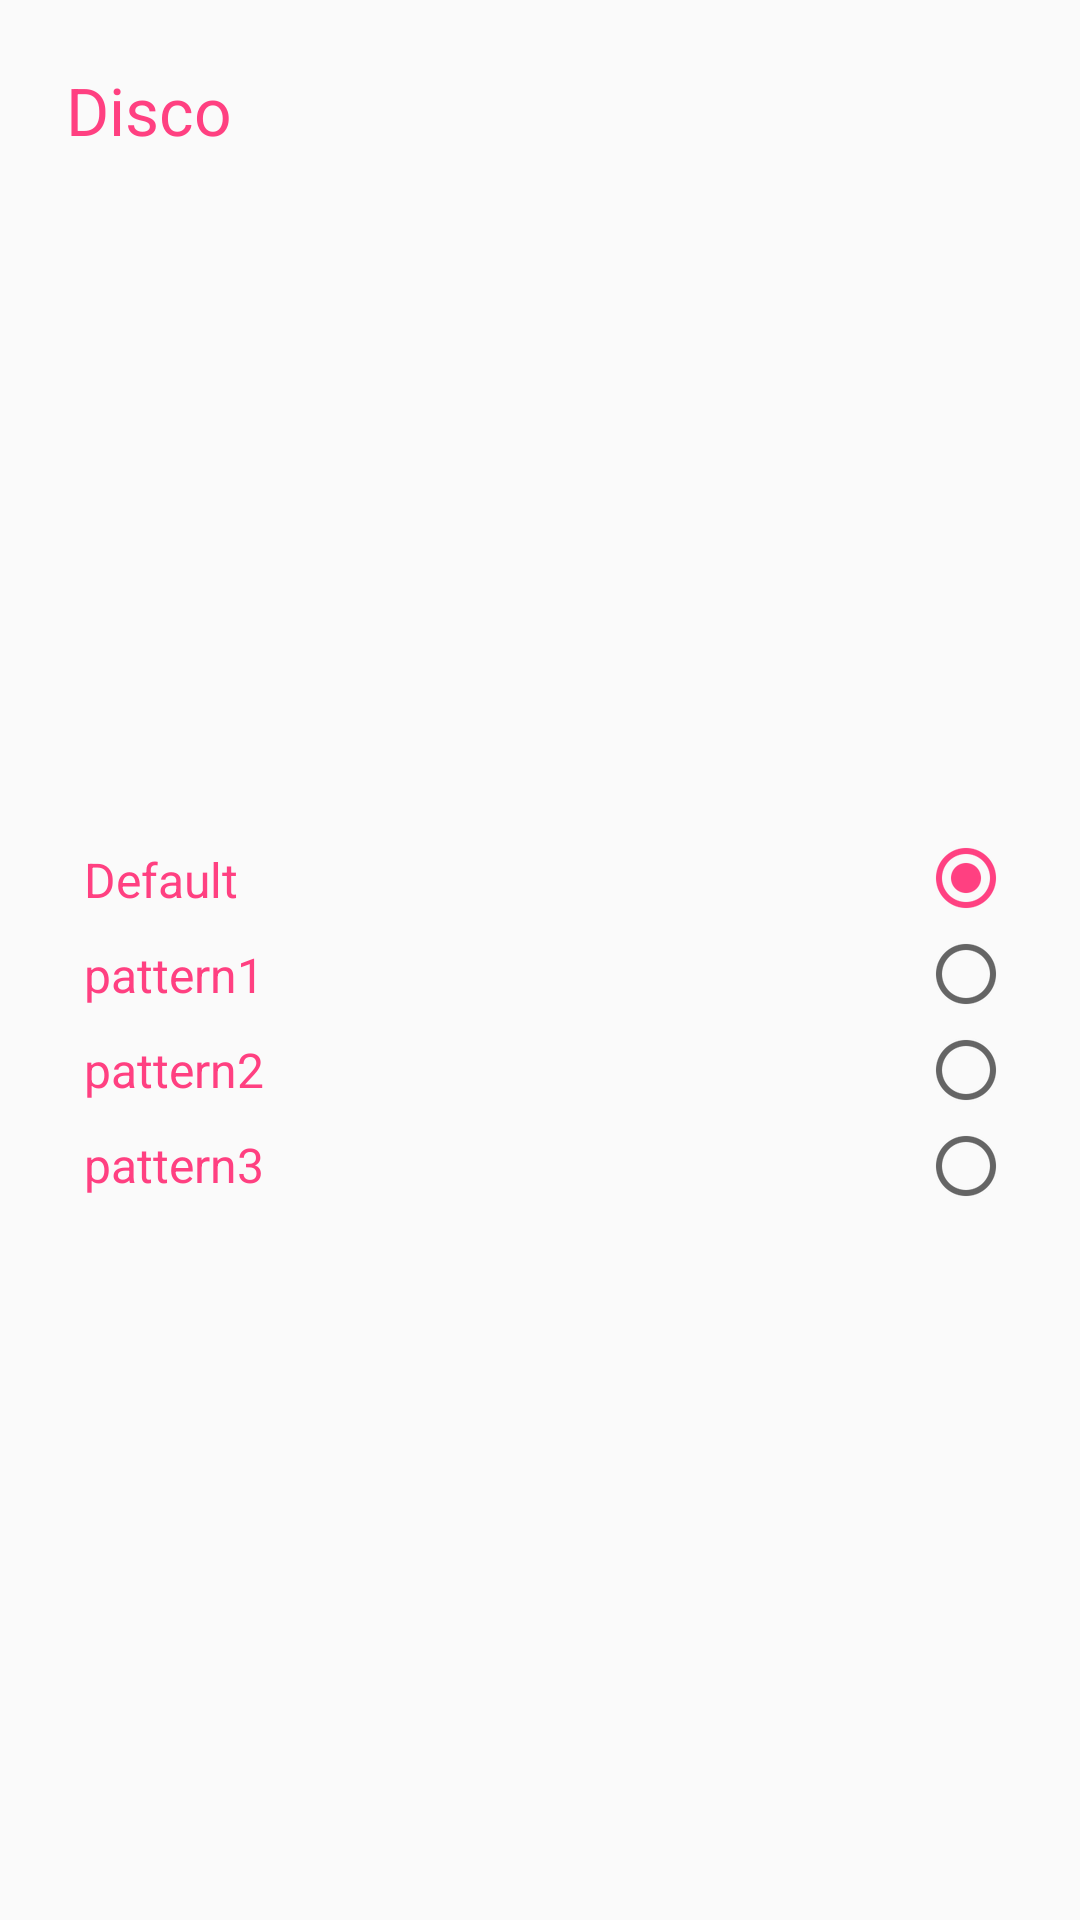

Locate icon controls on the screen. Image size 1080x1920, boxes as {"left": x1, "top": y1, "right": x2, "bottom": y2}.
radio: {"left": 936, "top": 848, "right": 996, "bottom": 908}, {"left": 936, "top": 944, "right": 996, "bottom": 1004}, {"left": 936, "top": 1040, "right": 996, "bottom": 1100}, {"left": 936, "top": 1136, "right": 996, "bottom": 1196}
